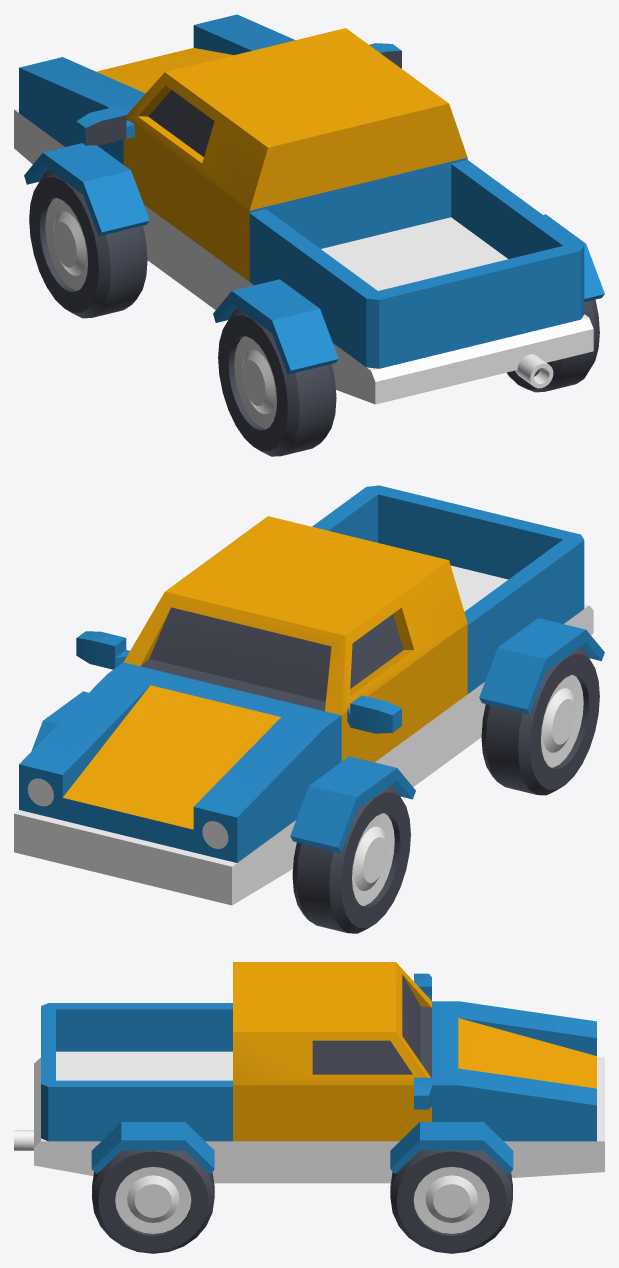
The model's file is Player Truck 2.fbx.
3 views of the same model, one above another, from view 1: azimuth 30°, elevation 25°; view 2: azimuth 150°, elevation 25°; view 3: azimuth 270°, elevation 25° (orthographic). The views are drawn at different scales.
Visible parts, largest first — view 1: windshield_square_151, trunk_bed_152, hood_square_147, wheel_small_160, wheel_small_159, detail_fenderSquare_162, detail_fenderSquare_161, wheel_small_164, detail_mirror_155, detail_exhaust_168, detail_fenderSquare_163; view 2: hood_square_147, windshield_square_151, trunk_bed_152, wheel_small_159, wheel_small_160, detail_fenderSquare_161, detail_fenderSquare_162, detail_mirror_155, detail_mirror_156, detail_fenderSquare_165; view 3: windshield_square_151, trunk_bed_152, hood_square_147, wheel_small_164, wheel_small_166, detail_fenderSquare_163, detail_fenderSquare_165, detail_mirror_156, detail_exhaust_168.
Part boxes in pixels (x1,y1,x2,y2): windshield_square_151: (123, 28, 467, 309); trunk_bed_152: (249, 160, 593, 404); hood_square_147: (14, 14, 295, 164); wheel_small_160: (218, 308, 336, 456); wheel_small_159: (29, 170, 147, 318); detail_fenderSquare_162: (213, 279, 338, 374); detail_fenderSquare_161: (24, 143, 149, 236); wheel_small_164: (507, 299, 599, 392); detail_mirror_155: (76, 106, 134, 145); detail_exhaust_168: (515, 354, 553, 388); detail_fenderSquare_163: (543, 214, 604, 301); hood_square_147: (14, 662, 341, 905); windshield_square_151: (124, 516, 467, 786); trunk_bed_152: (312, 485, 593, 746); wheel_small_159: (292, 785, 410, 933); wheel_small_160: (481, 647, 599, 795); detail_fenderSquare_161: (290, 756, 415, 852); detail_fenderSquare_162: (479, 618, 604, 714); detail_mirror_155: (347, 695, 401, 733); detail_mirror_156: (76, 631, 129, 669); detail_fenderSquare_165: (31, 691, 88, 751); windshield_square_151: (233, 962, 431, 1183); trunk_bed_152: (34, 1003, 232, 1183); hood_square_147: (432, 1001, 604, 1177); wheel_small_164: (92, 1150, 214, 1253); wheel_small_166: (390, 1150, 512, 1253); detail_fenderSquare_163: (91, 1122, 214, 1174); detail_fenderSquare_165: (390, 1122, 513, 1174); detail_mirror_156: (414, 1077, 431, 1109); detail_exhaust_168: (14, 1130, 33, 1150).
Size of the model in its own units: 14.5 by 11.08 by 29.7.
